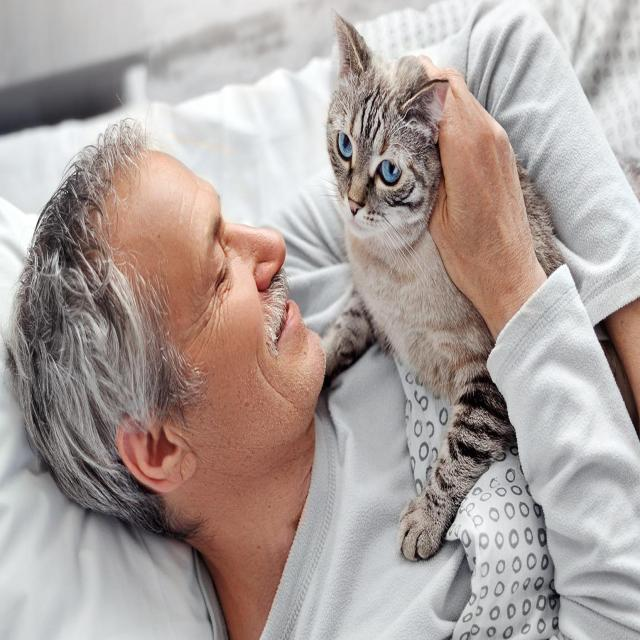Cat: (322, 2, 453, 246)
